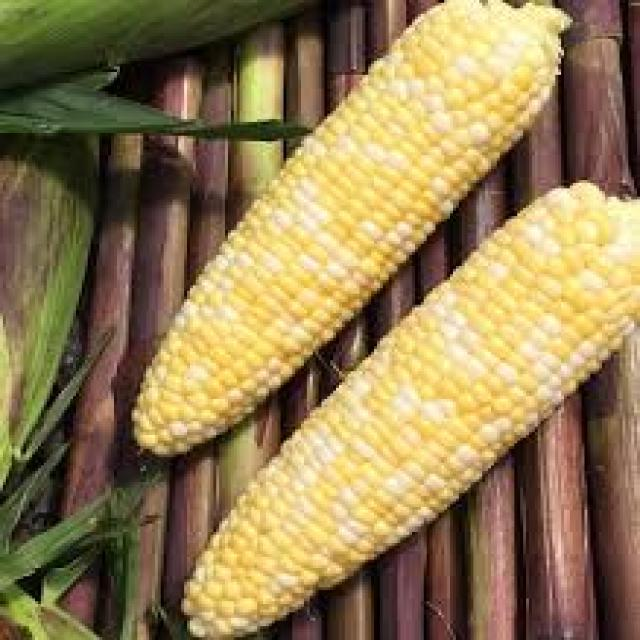corn: (312, 0, 561, 260), (433, 186, 640, 475), (131, 163, 323, 460), (187, 412, 432, 634)
